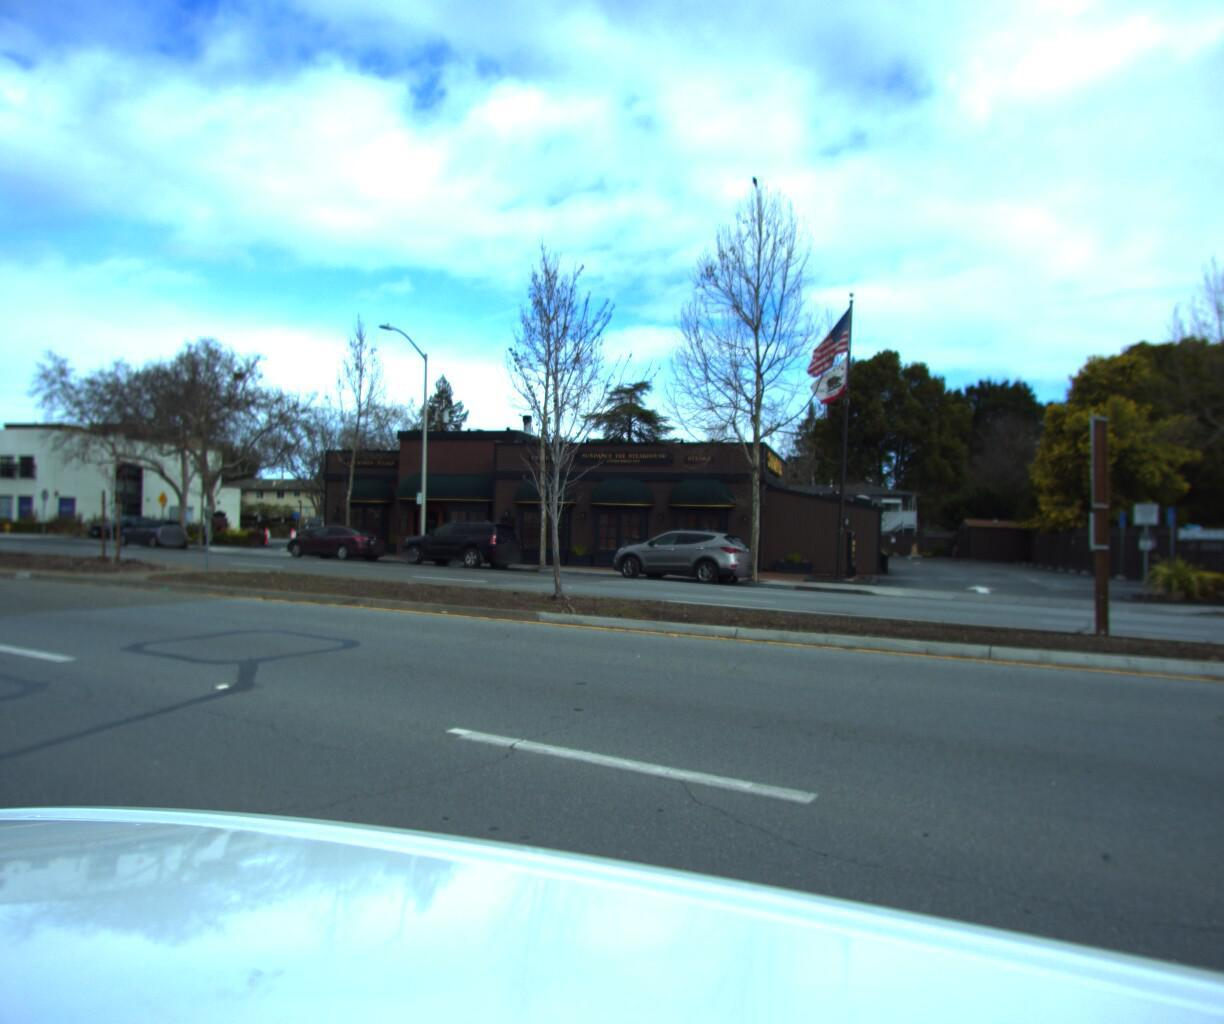car: (600, 523, 761, 581), (393, 515, 525, 568), (276, 519, 394, 561), (110, 514, 191, 548)
